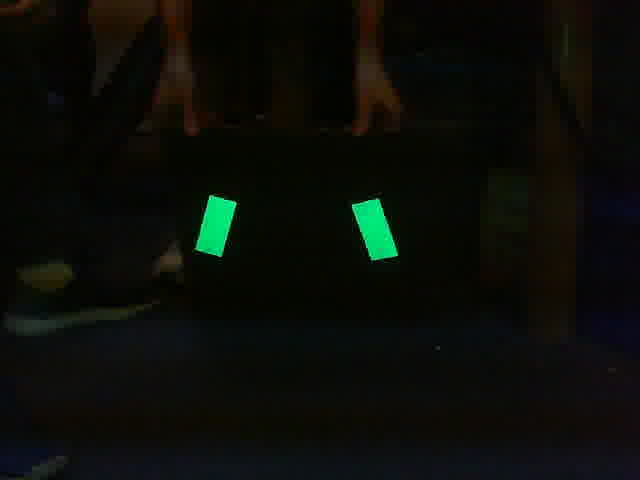target: (191, 194, 399, 262)
